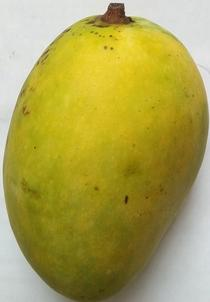PartiallyRipe: (1, 0, 210, 302)
